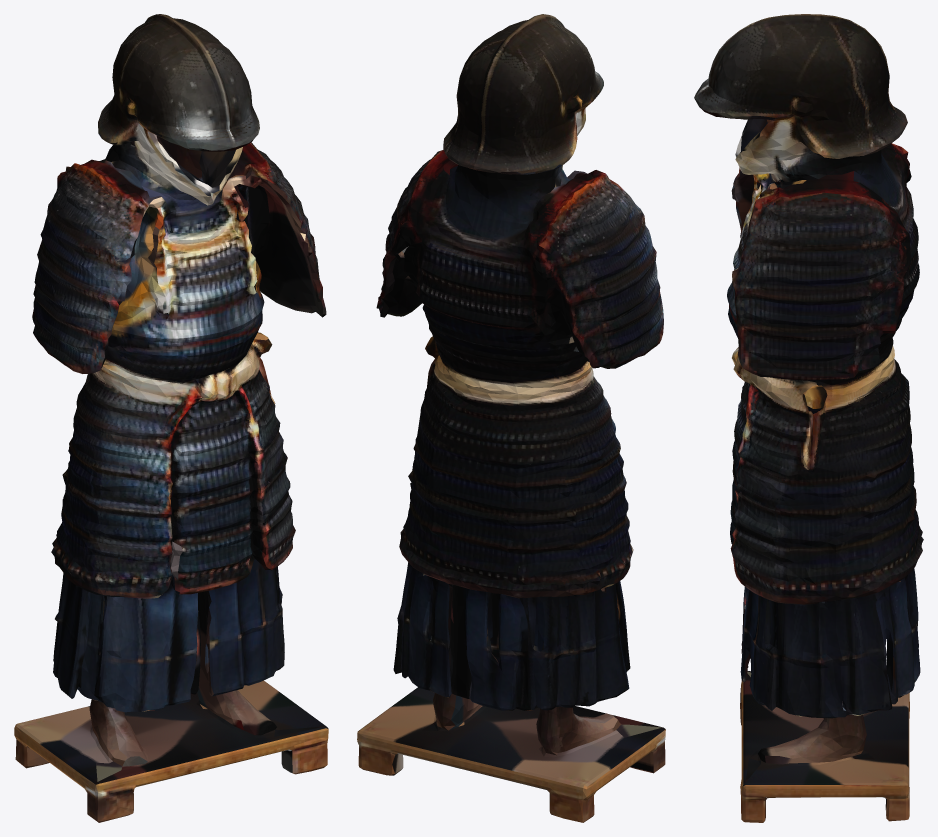
Rendered from hoshi_arms_armor_sample.glb.
The picture shows the model from 3 angles, left to right: view 1: azimuth 30°, elevation 25°; view 2: azimuth 150°, elevation 25°; view 3: azimuth 270°, elevation 25°; orthographic projection. The views are drawn at different scales.
Parts seen in each view (by area): view 1: temp_mesh.ply; view 2: temp_mesh.ply; view 3: temp_mesh.ply.
Boxes of the visible parts, <box> form: temp_mesh.ply: <box>14,14,328,822</box>; temp_mesh.ply: <box>357,14,665,822</box>; temp_mesh.ply: <box>694,14,923,822</box>.
Size of the model in its own units: 0.7091 by 1.97 by 0.547.
Materials: 1 (1 with a texture image).
